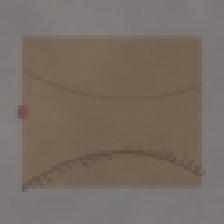pinguecula_lesion: (160, 99, 196, 128)
